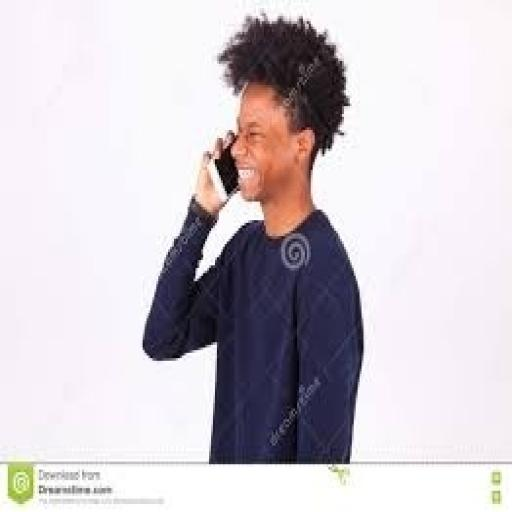calling: (139, 11, 365, 464)
